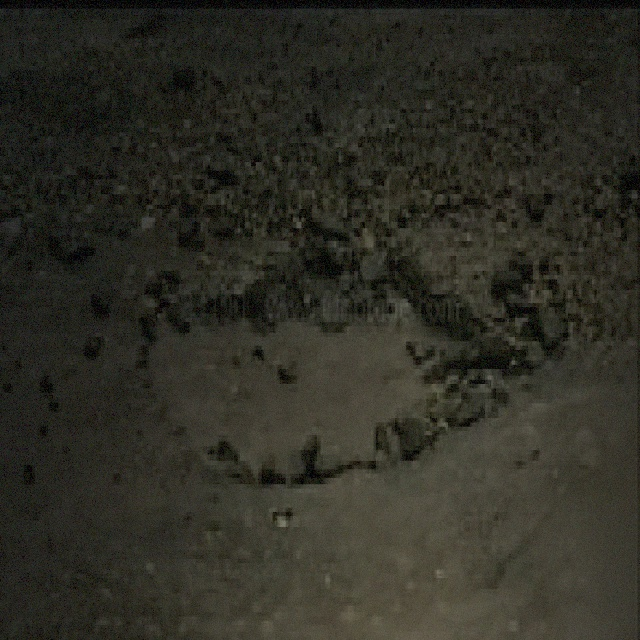pothole: (141, 234, 518, 488)
